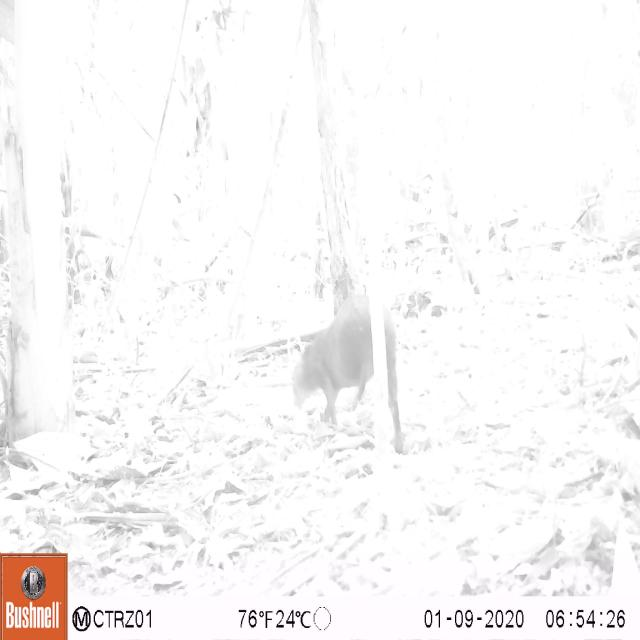Black Agouti: (275, 284, 407, 452)
